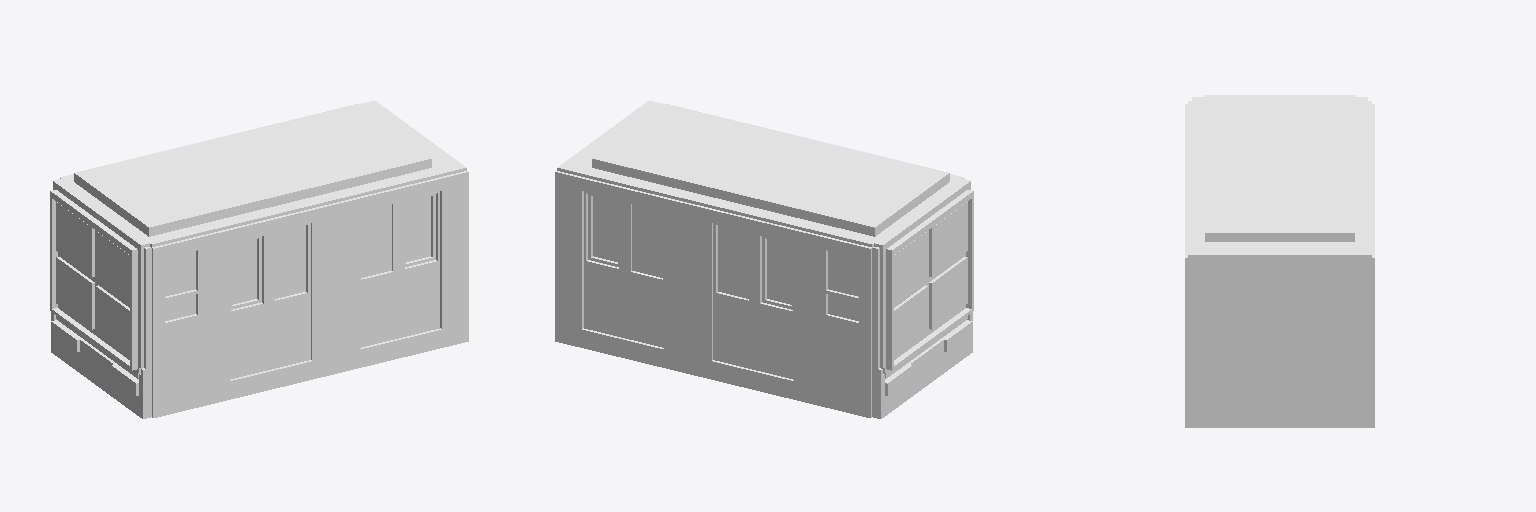
File: metro.obj
3 renders of one model, left to right at view 1: azimuth 30°, elevation 25°; view 2: azimuth 150°, elevation 25°; view 3: azimuth 270°, elevation 25°, orthographic.
Parts seen in each view (by area): view 1: object 1; view 2: object 1; view 3: object 1.
Boxes of the visible parts, <box> form: object 1: <box>50,101,468,418</box>; object 1: <box>555,101,973,418</box>; object 1: <box>1185,95,1374,427</box>.
Bounding box in the file's own units: 11.2 × 5.9 × 5.6.